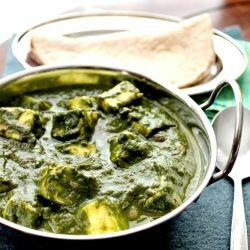PalakPaneer: (0, 76, 203, 236)
